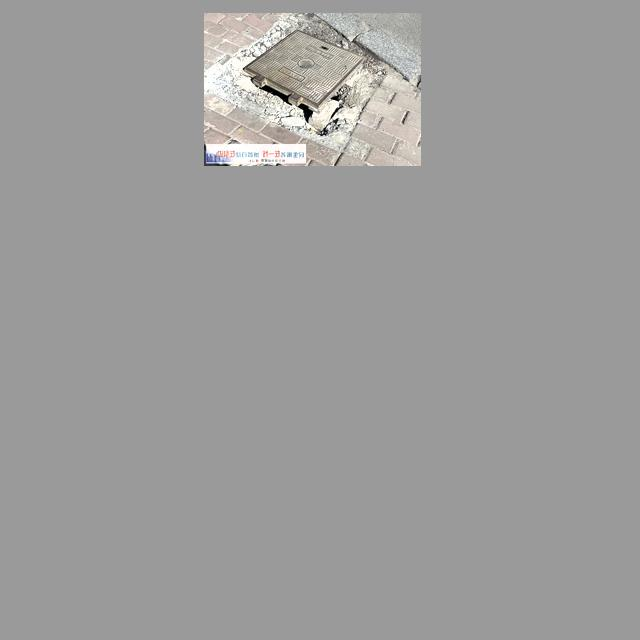circle: (216, 28, 387, 135)
